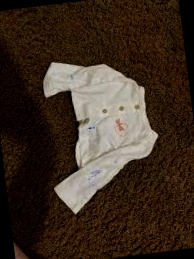ink: (88, 169, 101, 178), (88, 125, 94, 130), (70, 75, 74, 80)
